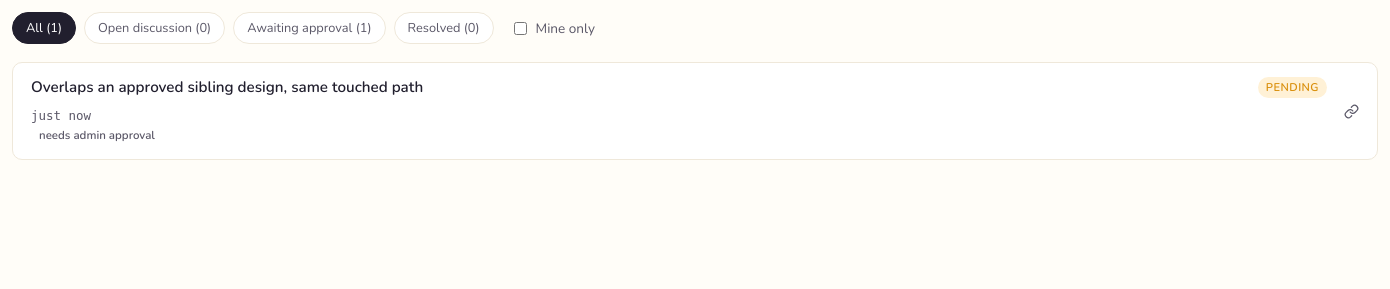
Test: ConflictsView › shows an inline error if deciding fails, without dropping the review
The width and height of the screenshot is (1390, 289).
Click the 5th button at x=227, y=87, box [13, 63, 1377, 159]
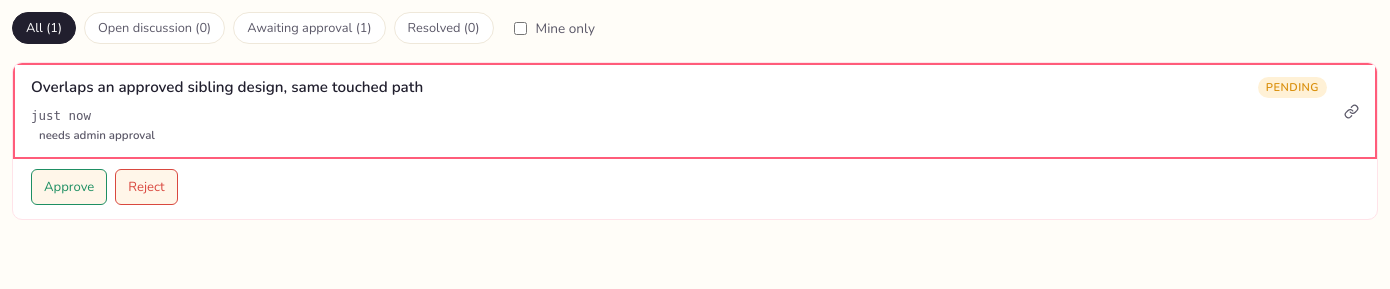
Click the button "Reject" at x=146, y=187, box [115, 169, 178, 205]
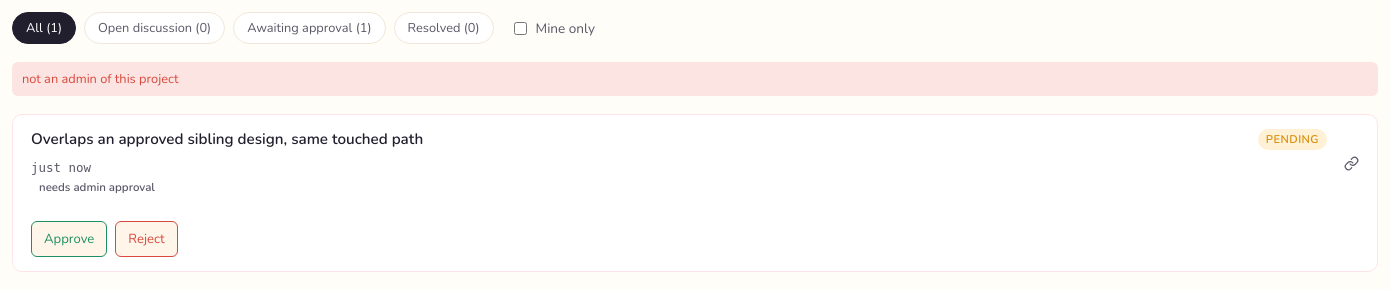
Check: the text "Overlaps an approved sibling design, same touched path" is shown, box [31, 129, 423, 149]
Check: the message reads "not an admin of this project", box [22, 70, 178, 88]
